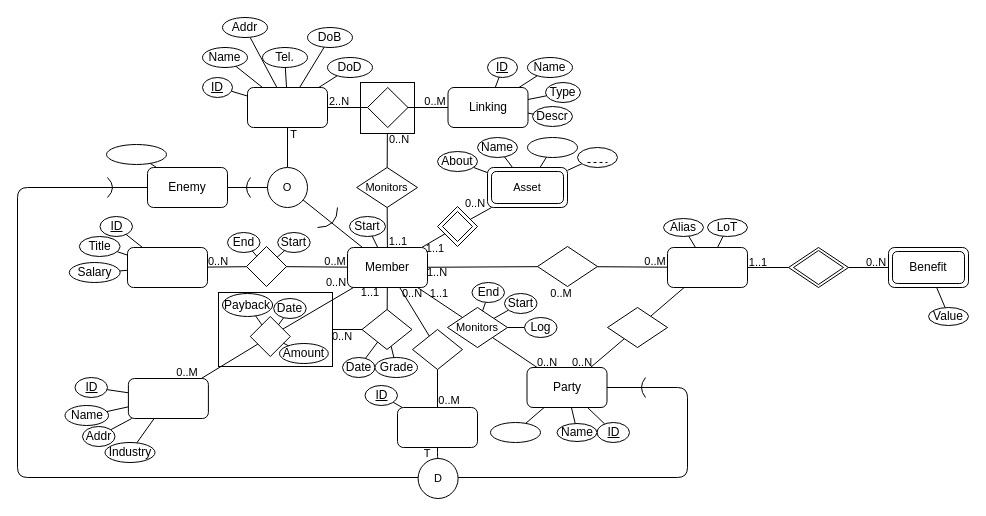
This 986x516 diagram has some shape labels left out. The shapes that lost their labels are listed below. From the top down, each one's centre as x and y in pixels, then its label:
At (287,107): "Person".
At (387,107): "In".
At (136,154): "Reason".
At (552,147): "Usage".
At (597,157): "PID".
At (457,226): "Has".
At (167,267): "Role".
At (266,266): "Fills".
At (567,266): "Affiliated".
At (707,267): "Ally".
At (818,267): "Gives".
At (269,336): "Grant".
At (386,329): "Reviews".
At (637,327): "Supports".
At (437,349): "Opposes".
At (167,398): "Sponsor".
At (437,427): "Opponent".
At (515,432): "Country".
